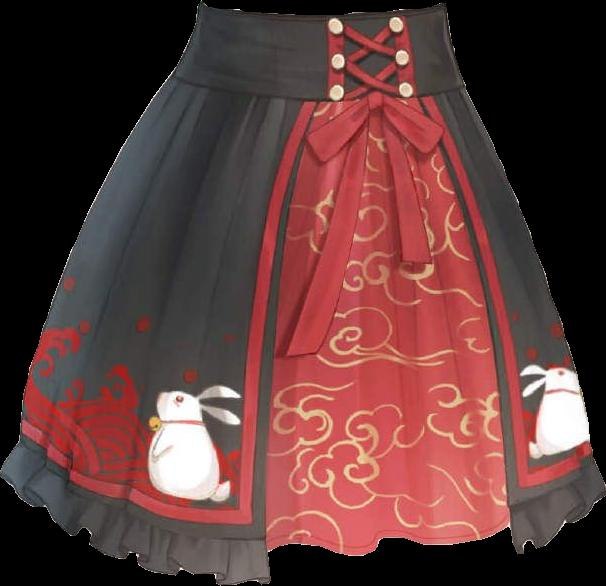Hemline: (0, 472, 272, 585), (265, 519, 513, 556), (519, 487, 605, 557)
Waistline: (18, 99, 323, 545), (419, 96, 596, 510), (168, 70, 470, 104), (197, 0, 450, 23)
